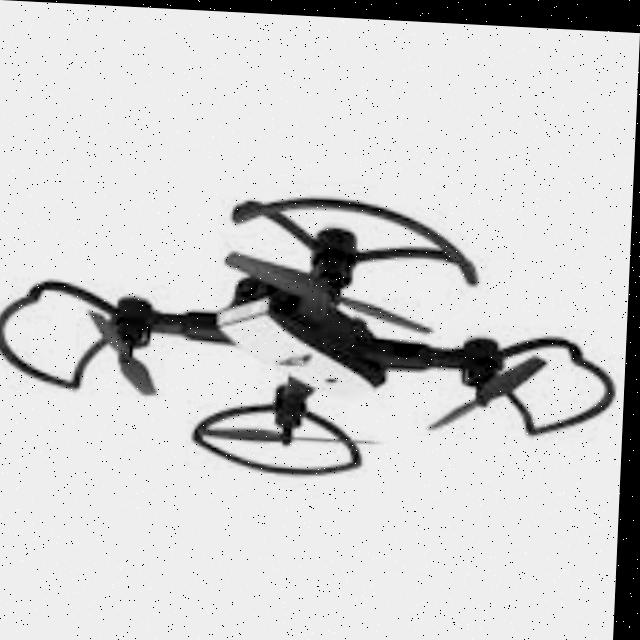drone: (0, 153, 635, 510)
